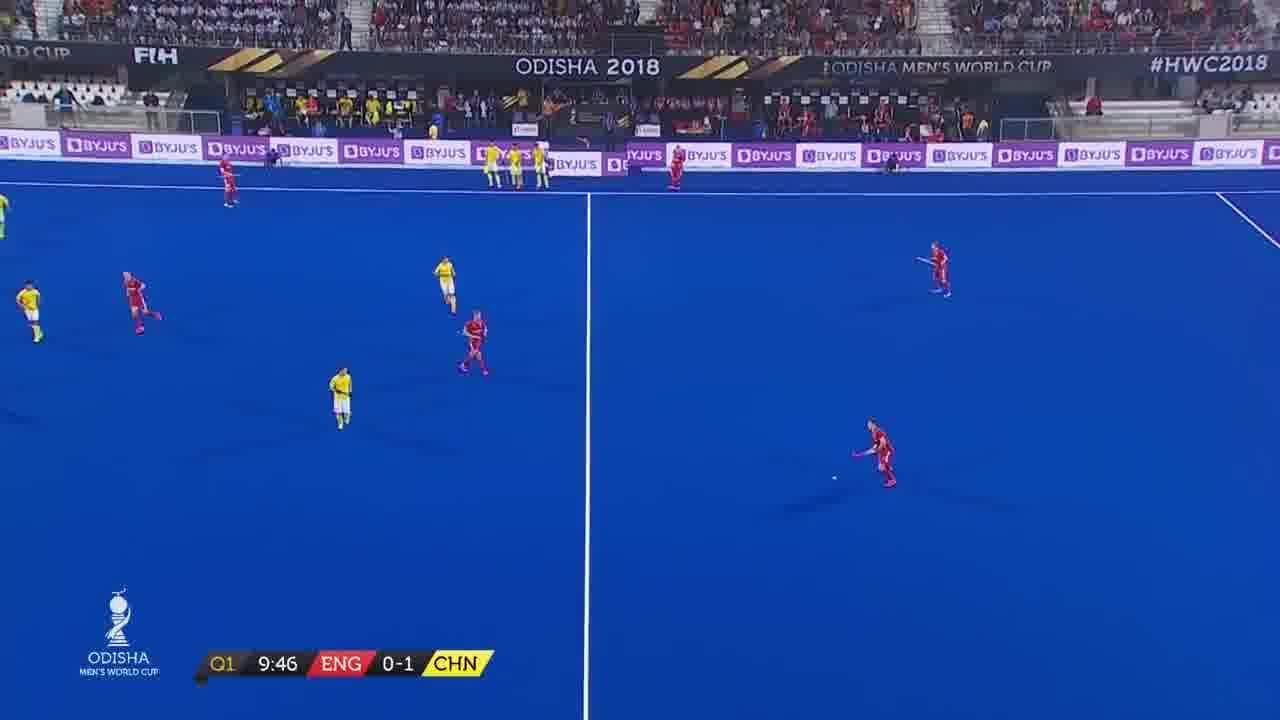ball: (831, 475, 841, 483)
